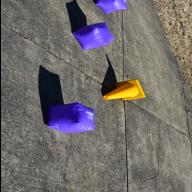cone: (102, 79, 145, 101)
cube: (46, 101, 94, 134), (70, 22, 114, 50), (95, 0, 127, 14)
